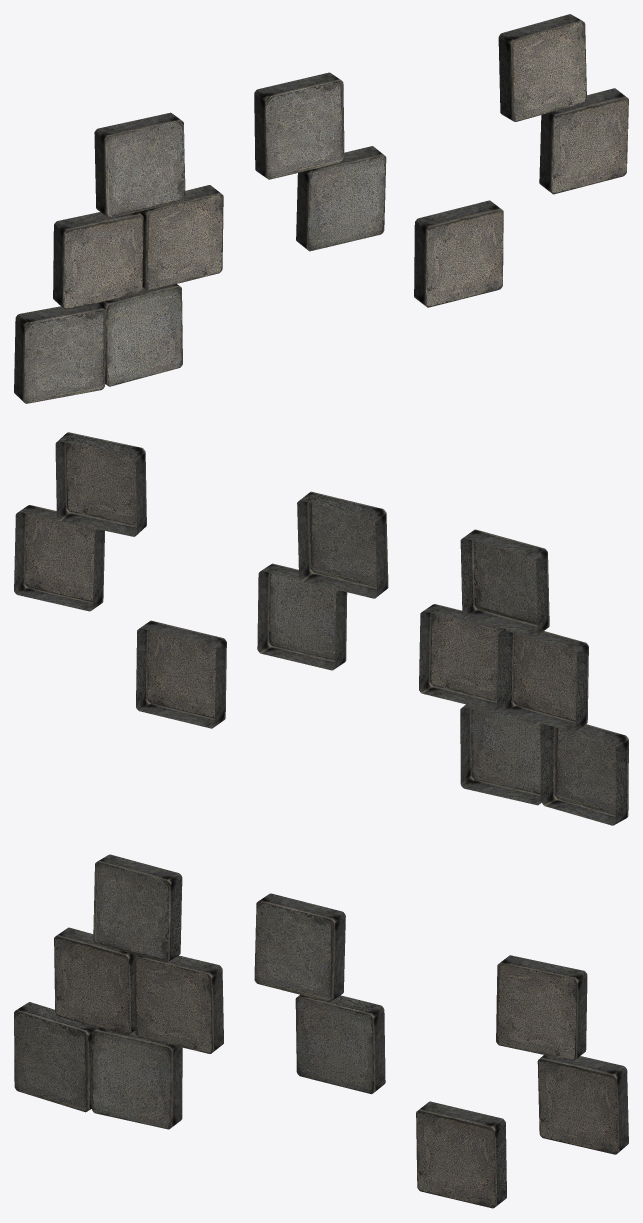
The model's file is hd_dec_UNI_003_PavingDirected_horizontal_02.glb.
The picture shows the model from 3 angles, top to bottom: view 1: azimuth 30°, elevation 25°; view 2: azimuth 150°, elevation 25°; view 3: azimuth 330°, elevation 25°; orthographic projection.
Parts seen in each view (by area): view 1: set_0_group_0; view 2: set_0_group_0; view 3: set_0_group_0.
Part boxes in pixels (box(x1,y1,x2,y2)): set_0_group_0: box(14, 14, 628, 403); set_0_group_0: box(14, 432, 628, 825); set_0_group_0: box(14, 854, 628, 1208).
Size of the model in its own units: 3.74 by 1.49 by 0.1804.
Materials: 1 (1 with a texture image).
